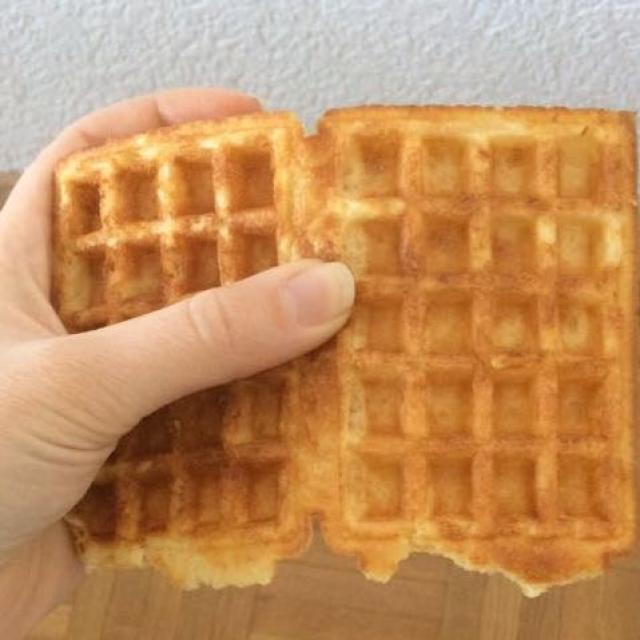waffle: (57, 116, 611, 581)
